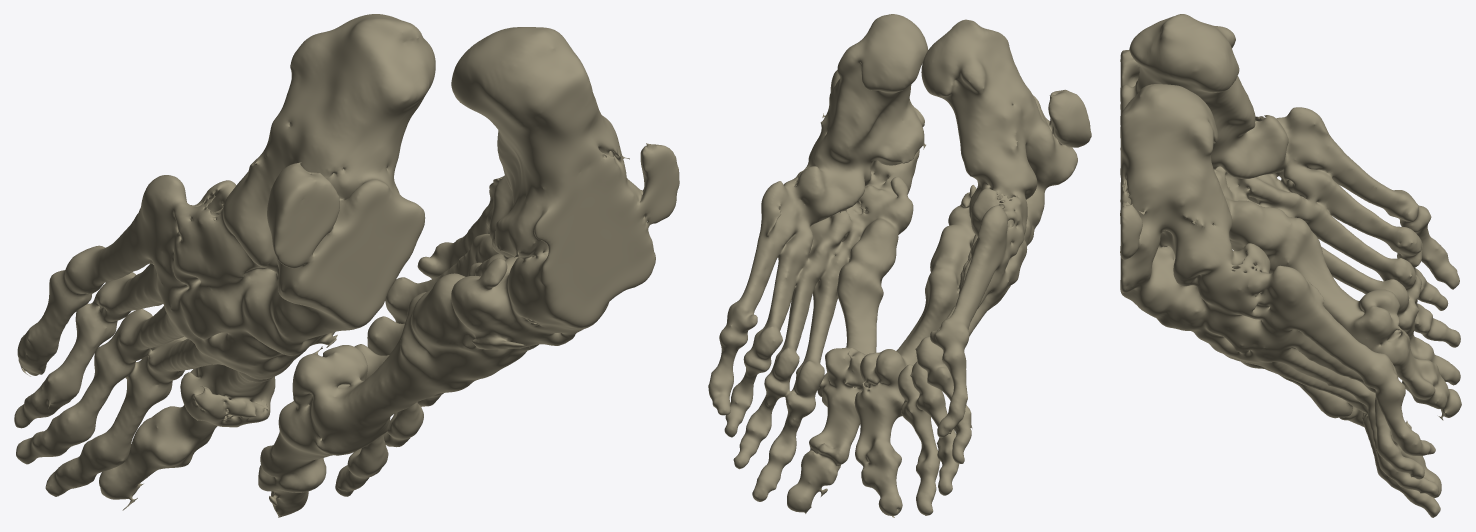
File: Segmentation.glb
3 views of the same model, side by side, from view 1: azimuth 30°, elevation 25°; view 2: azimuth 150°, elevation 25°; view 3: azimuth 270°, elevation 25° (orthographic). The views are drawn at different scales.
Visible parts, largest first — view 1: Node1; view 2: Node1; view 3: Node1.
Boxes of the visible parts, x1,y1,x2,y2 form: Node1: (14,14,679,517); Node1: (708,14,1091,517); Node1: (1120,14,1461,517).
Bounding box in the file's own units: 147 × 211 × 144.
